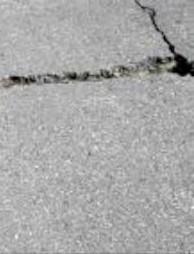crack: (1, 9, 193, 90)
